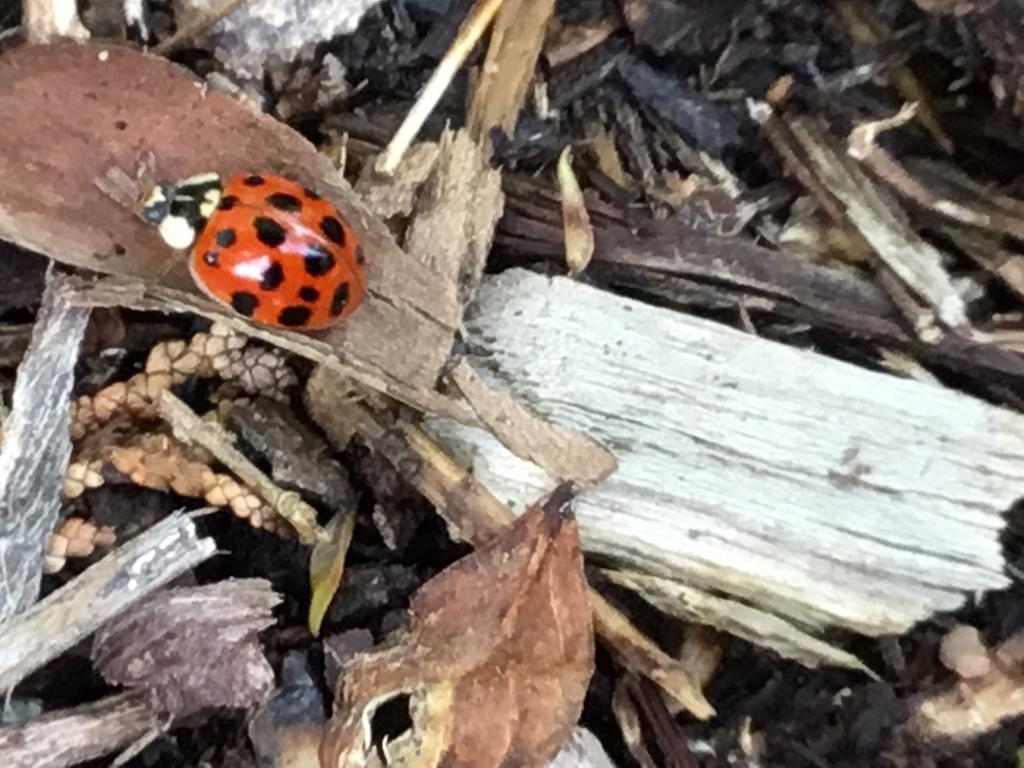ladybug: (137, 161, 377, 335)
